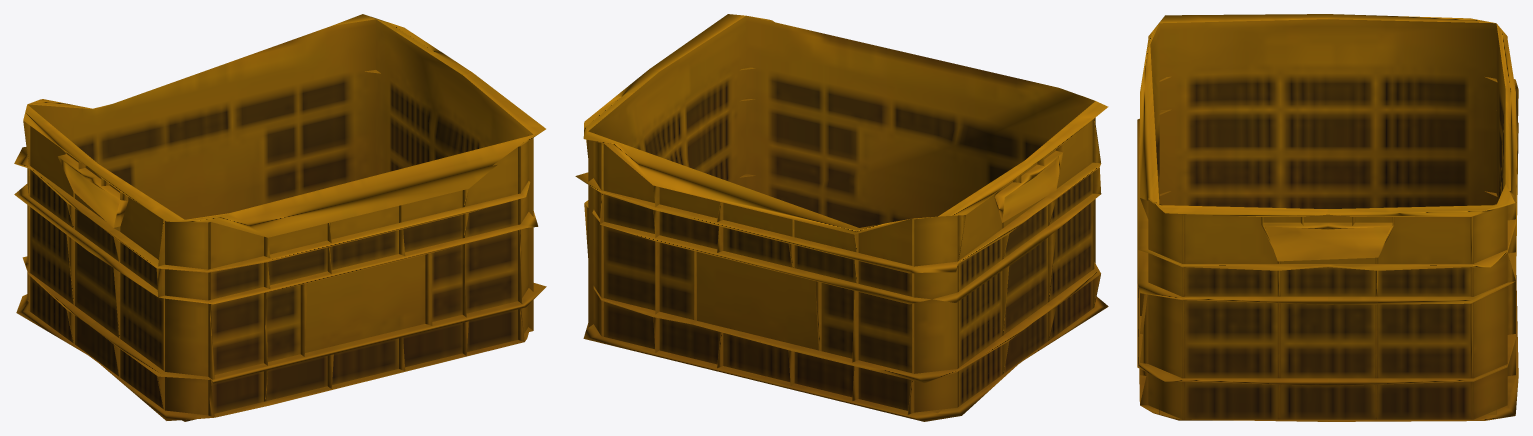
Rendered from plastic_crate_02.glb.
3 renders of one model, left to right at view 1: azimuth 30°, elevation 25°; view 2: azimuth 150°, elevation 25°; view 3: azimuth 270°, elevation 25°, orthographic. The views are drawn at different scales.
Visible parts, largest first — view 1: plastic_crate_02; view 2: plastic_crate_02; view 3: plastic_crate_02.
Boxes of the visible parts, left/top/right/bottom form: plastic_crate_02: left=14, top=14, right=546, bottom=421; plastic_crate_02: left=575, top=14, right=1108, bottom=421; plastic_crate_02: left=1137, top=14, right=1518, bottom=421.
Size of the model in its own units: 0.5055 by 0.2541 by 0.4055.
1 material, 1 textured.
